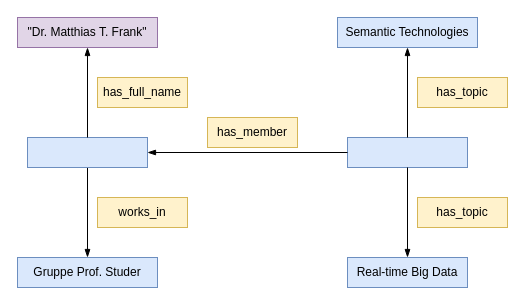
Image size: 525x305. Some labels were removed from this diagram. Each missing label, with the centre of its shape:
BigGIS: point (407, 152)
Matthias Frank: point (87, 152)
